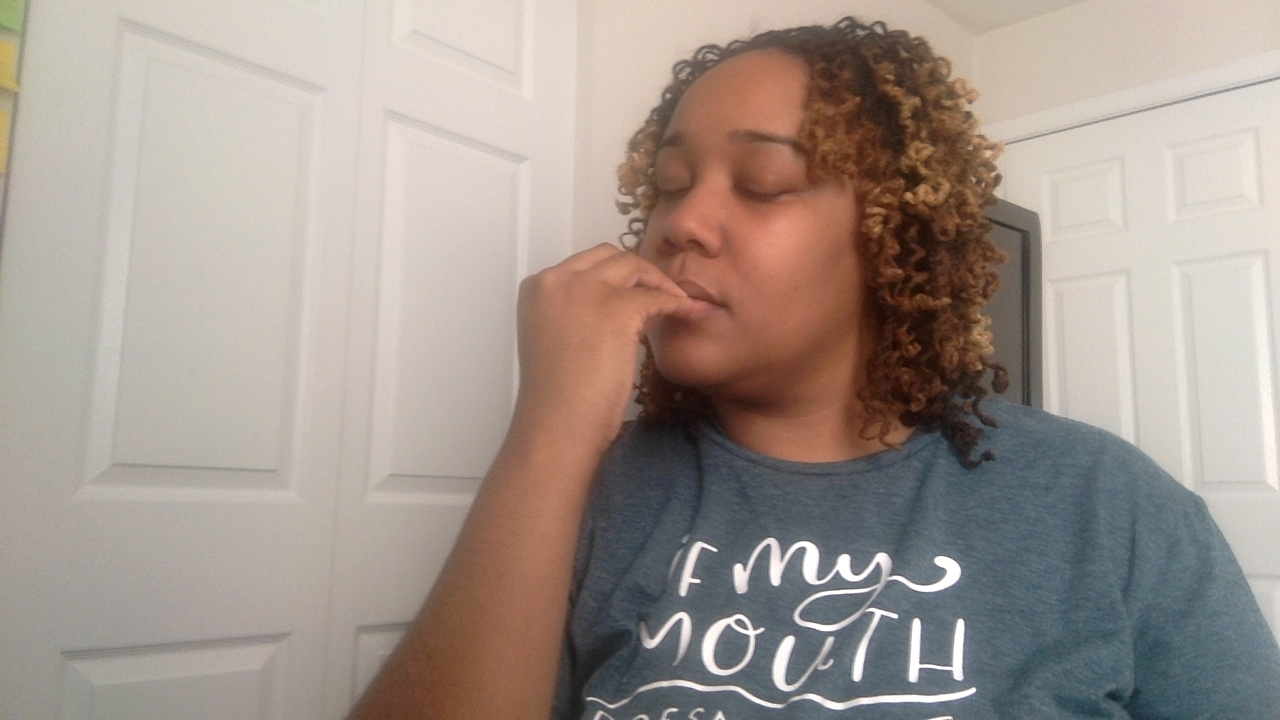eat: (483, 234, 867, 536)
